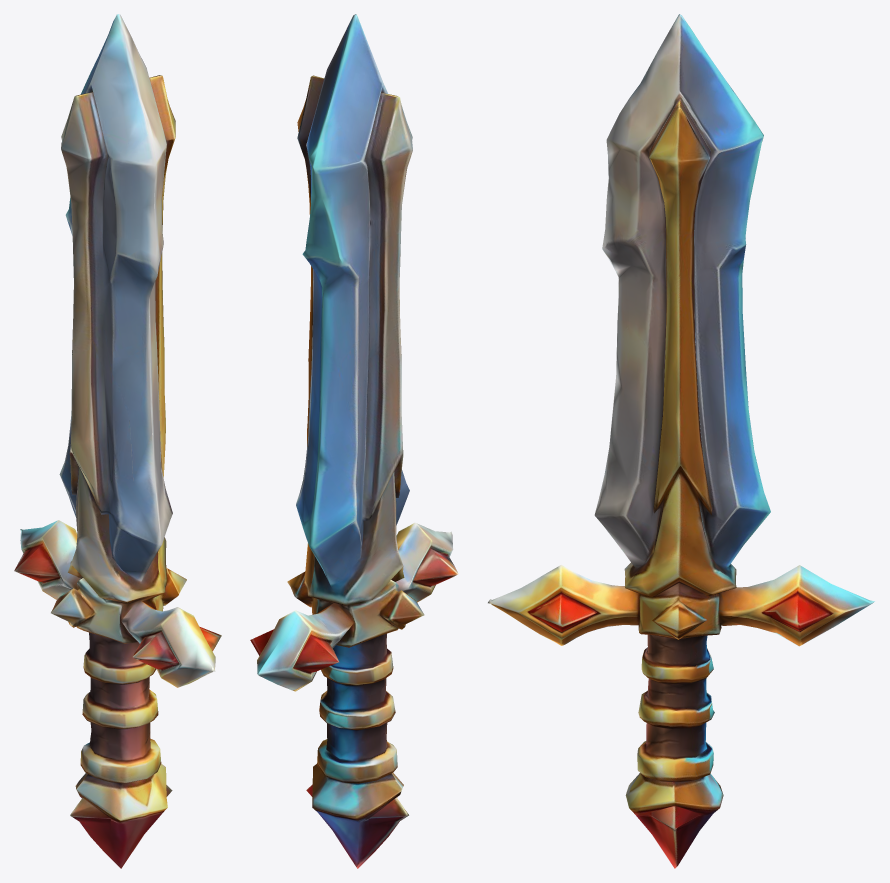
The model's file is w_knight--dagger.glb.
3 views of the same model, side by side, from view 1: azimuth 30°, elevation 25°; view 2: azimuth 150°, elevation 25°; view 3: azimuth 270°, elevation 25° (orthographic).
Parts seen in each view (by area): view 1: Weapon; view 2: Weapon; view 3: Weapon.
Part boxes in pixels (x1,y1,x2,y2): Weapon: [14, 14, 221, 868]; Weapon: [250, 14, 458, 868]; Weapon: [488, 14, 874, 868].
Bounding box in the file's own units: 0.1644 × 0.9792 × 0.4029.
Materials: 1 (1 with a texture image).
